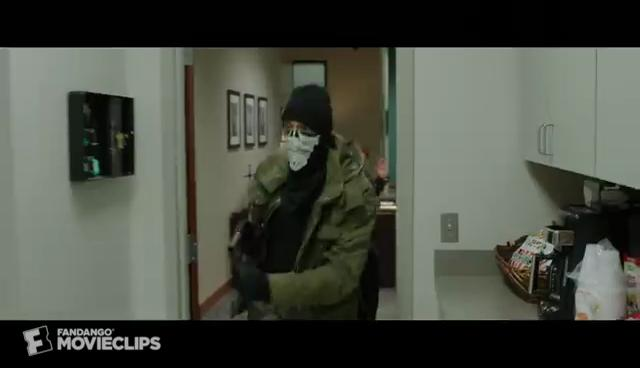criminal: (226, 85, 380, 319)
weapon: (226, 214, 263, 275)
